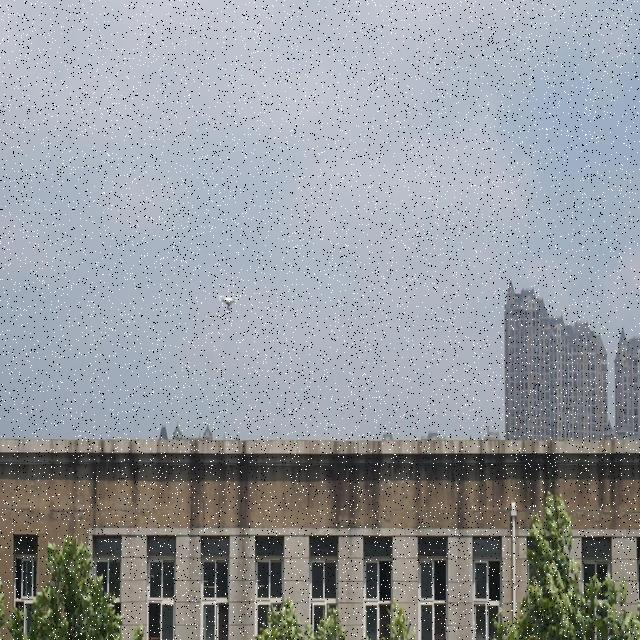UAV: (218, 294, 240, 314)
